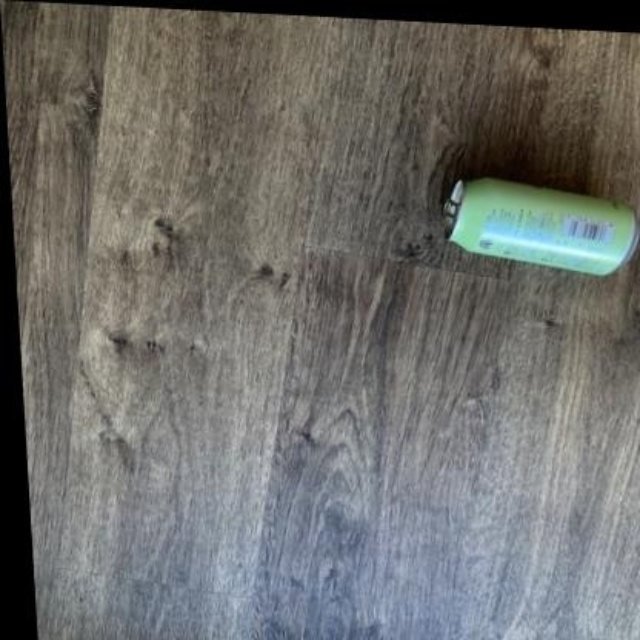trash: (445, 177, 637, 274)
